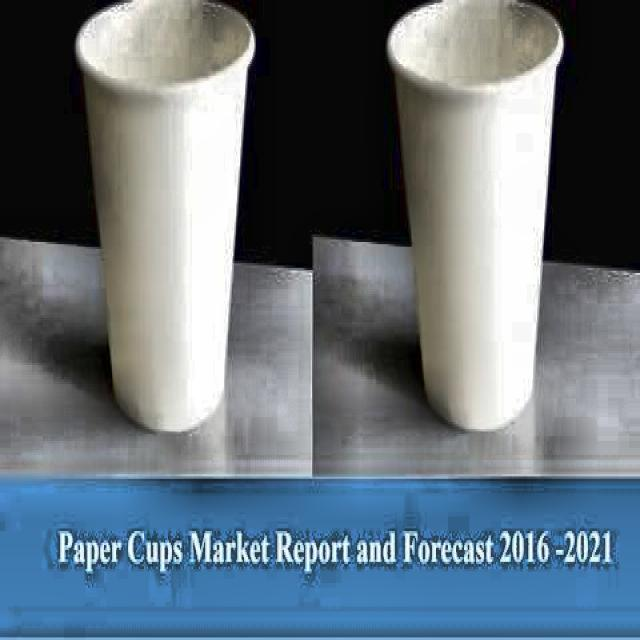Cup: (367, 0, 575, 463), (74, 0, 256, 457)
